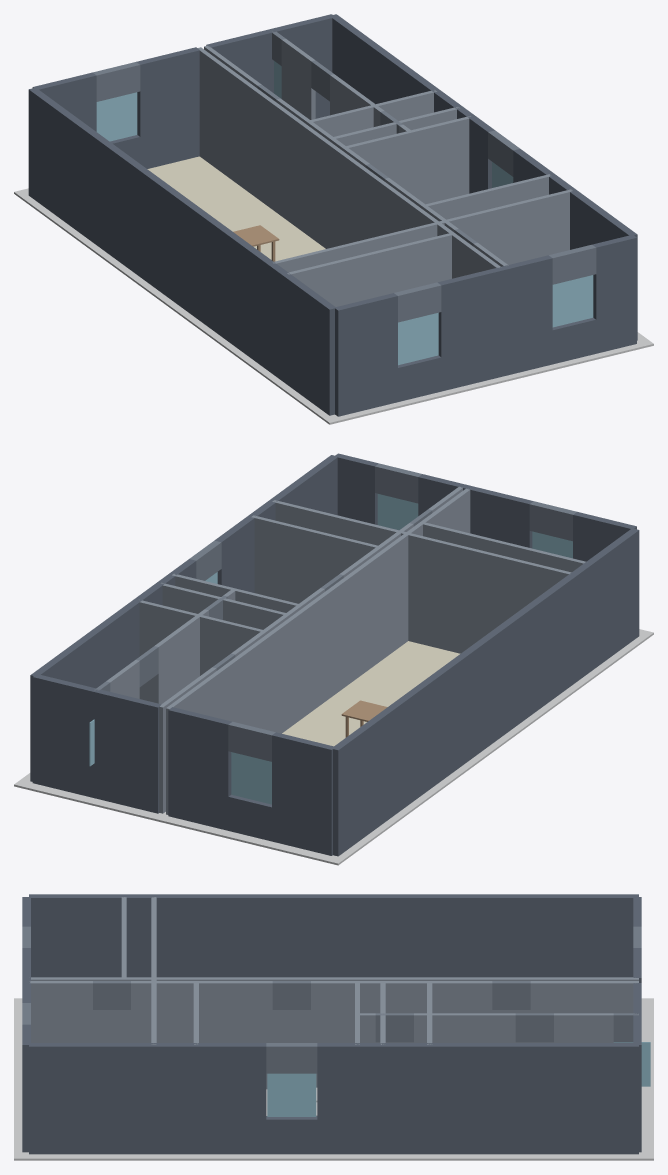
3 renders of one model, top to bottom at view 1: azimuth 30°, elevation 25°; view 2: azimuth 150°, elevation 25°; view 3: azimuth 270°, elevation 25°, orthographic.
Visible parts, largest first — view 1: wall_009_w10, wall_010_w11, wall_post_000_01, wall_002_w3, wall_post_000_00, wall_post_007_final, wall_post_013_final, wall_004_w5, wall_001_w2, room_finish_005_dining, floor_slab, wall_post_000_final (+20 smaller); view 2: wall_009_w10, wall_010_w11, wall_002_w3, wall_008_w9, wall_post_007_final, wall_post_007_00, wall_003_w4, room_finish_005_dining, wall_post_013_final, floor_slab, wall_post_013_00, wall_006_w7 (+20 smaller); view 3: wall_009_w10, wall_post_013_final, wall_post_013_00, wall_post_011_01, floor_slab, wall_post_011_02, wall_010_w11, wall_post_011_00, wall_post_011_final, wall_post_012_01, glass_pane_win_4, sill_wall_013_win_4 (+15 smaller).
Part boxes in pixels (<box>): wall_009_w10: <box>28,87,336,415</box>; wall_010_w11: <box>197,47,501,278</box>; wall_post_000_01: <box>437,255,552,391</box>; wall_002_w3: <box>273,189,572,272</box>; wall_post_000_00: <box>334,293,397,416</box>; wall_post_007_final: <box>136,47,199,168</box>; wall_post_013_final: <box>330,14,494,193</box>; wall_004_w5: <box>346,116,470,204</box>; wall_001_w2: <box>287,233,452,306</box>; room_finish_005_dining: <box>147,156,325,261</box>; floor_slab: <box>14,188,653,424</box>; wall_post_000_final: <box>592,234,636,353</box>; wall_009_w10: <box>332,528,639,856</box>; wall_010_w11: <box>166,488,470,814</box>; wall_002_w3: <box>272,500,571,653</box>; wall_008_w9: <box>32,674,161,813</box>; wall_post_007_final: <box>168,707,231,830</box>; wall_post_007_00: <box>272,732,335,855</box>; wall_003_w4: <box>251,515,378,603</box>; room_finish_005_dining: <box>282,641,460,746</box>; wall_post_013_final: <box>30,559,196,781</box>; floor_slab: <box>14,629,653,865</box>; wall_post_013_00: <box>214,455,337,592</box>; wall_006_w7: <box>139,599,263,702</box>; wall_009_w10: <box>29,894,638,977</box>; wall_post_013_final: <box>317,1043,638,1154</box>; wall_post_013_00: <box>29,1043,266,1154</box>; wall_post_011_01: <box>131,981,272,1089</box>; floor_slab: <box>14,998,653,1160</box>; wall_post_011_02: <box>311,981,492,1087</box>; wall_010_w11: <box>31,977,638,1042</box>; wall_post_011_00: <box>29,981,92,1042</box>; wall_post_011_final: <box>530,981,638,1042</box>; wall_post_012_01: <box>414,1013,515,1042</box>; glass_pane_win_4: <box>267,1073,316,1116</box>; sill_wall_013_win_4: <box>266,1116,317,1154</box>.
Bounding box in the file's own units: 8.95 × 2.85 × 15.09.
